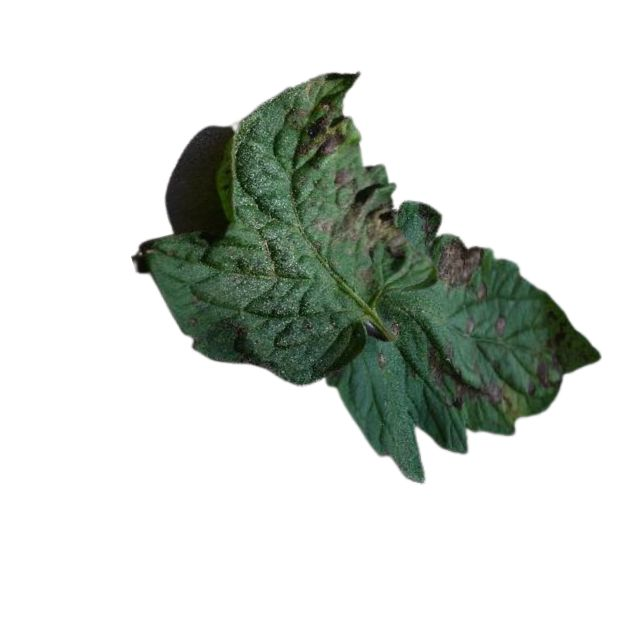Early_blight: (312, 184, 408, 258), (425, 340, 514, 414), (299, 90, 344, 157), (434, 235, 484, 288), (526, 358, 552, 396), (492, 312, 510, 337), (334, 167, 350, 187)
